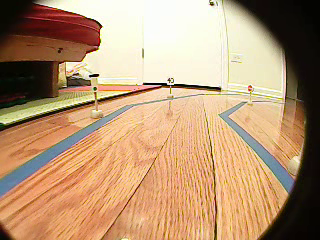Green Traffic Light: (89, 74, 101, 93)
Speed Limit 40: (166, 75, 175, 84)
Stop Sign: (247, 84, 254, 93)
